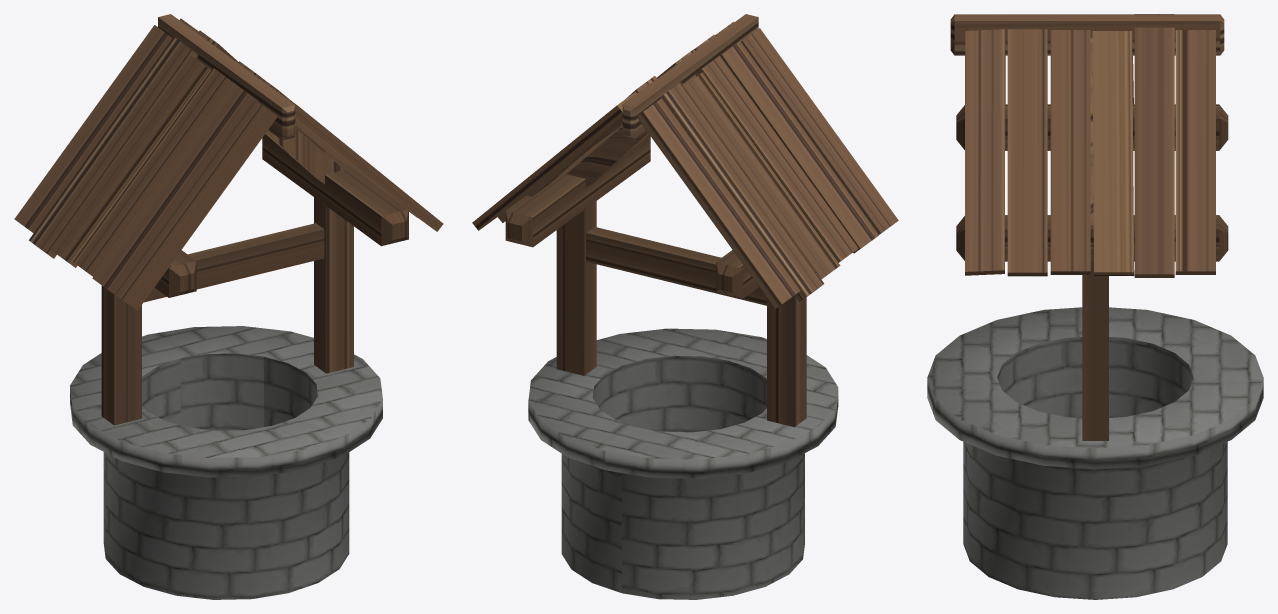
The model's file is Well.fbx.
The picture shows the model from 3 angles, left to right: view 1: azimuth 30°, elevation 25°; view 2: azimuth 150°, elevation 25°; view 3: azimuth 270°, elevation 25°; orthographic projection. The views are drawn at different scales.
Parts seen in each view (by area): view 1: Well; view 2: Well; view 3: Well.
Part boxes in pixels (x1,y1,x2,y2): Well: (14,14,443,599); Well: (472,14,898,599); Well: (927,14,1263,599).
Bounding box in the file's own units: 1.91 × 2.81 × 1.63.
